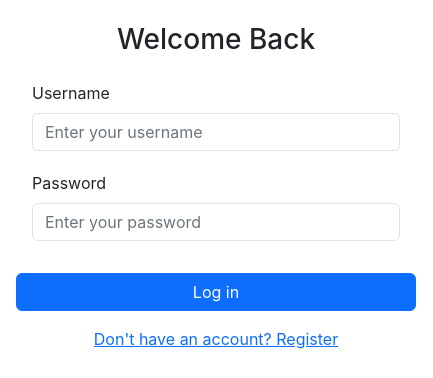
Test: Login Component › Form Validation › shows validation error for short username
In the field labelled "Username": (216, 132) [32,113,400,151], type "ab"
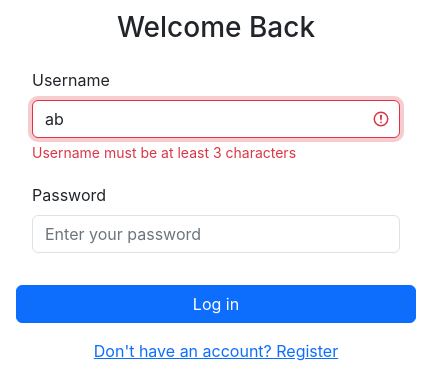
Expected: the text "Username must be at least 3 characters" is shown, [32,144,296,161]
